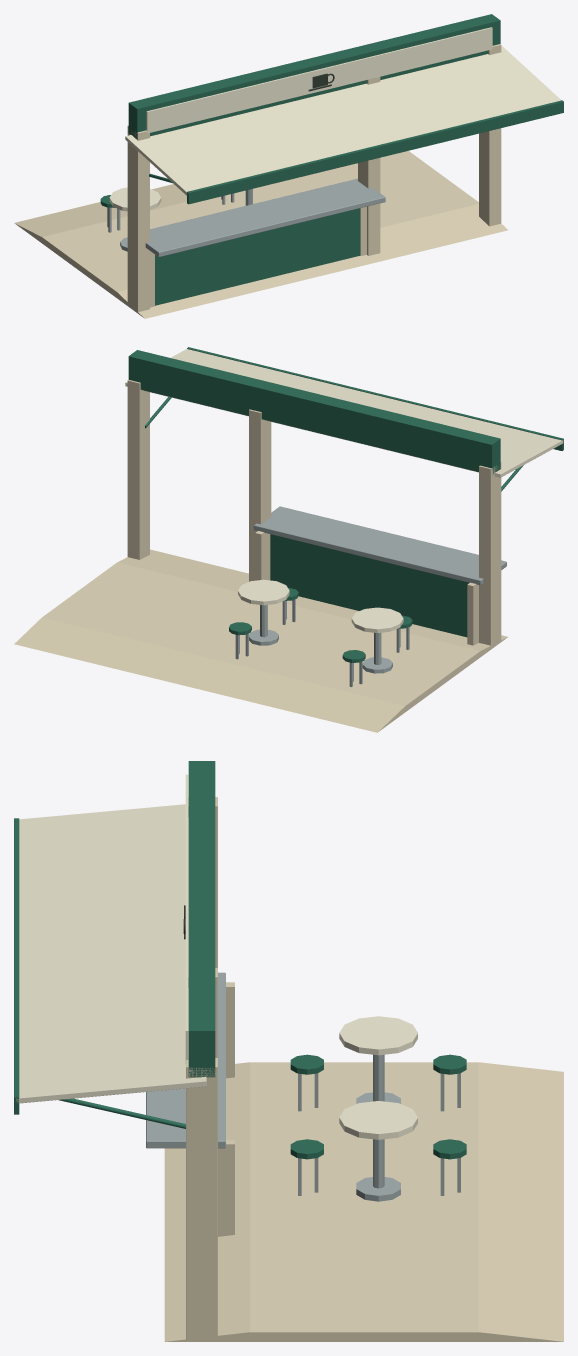
Rendered from hdb_coffee_shop.glb.
The picture shows the model from 3 angles, top to bottom: view 1: azimuth 30°, elevation 25°; view 2: azimuth 150°, elevation 25°; view 3: azimuth 270°, elevation 25°; orthographic projection. The views are drawn at different scales.
Parts seen in each view (by area): view 1: hdb_coffee_shop; view 2: hdb_coffee_shop; view 3: hdb_coffee_shop.
Boxes of the visible parts, left/top/right/bottom form: hdb_coffee_shop: left=14, top=14, right=563, bottom=318; hdb_coffee_shop: left=14, top=347, right=563, bottom=732; hdb_coffee_shop: left=14, top=761, right=563, bottom=1341.
Bounding box in the file's own units: 6.2 × 3.22 × 5.17.
